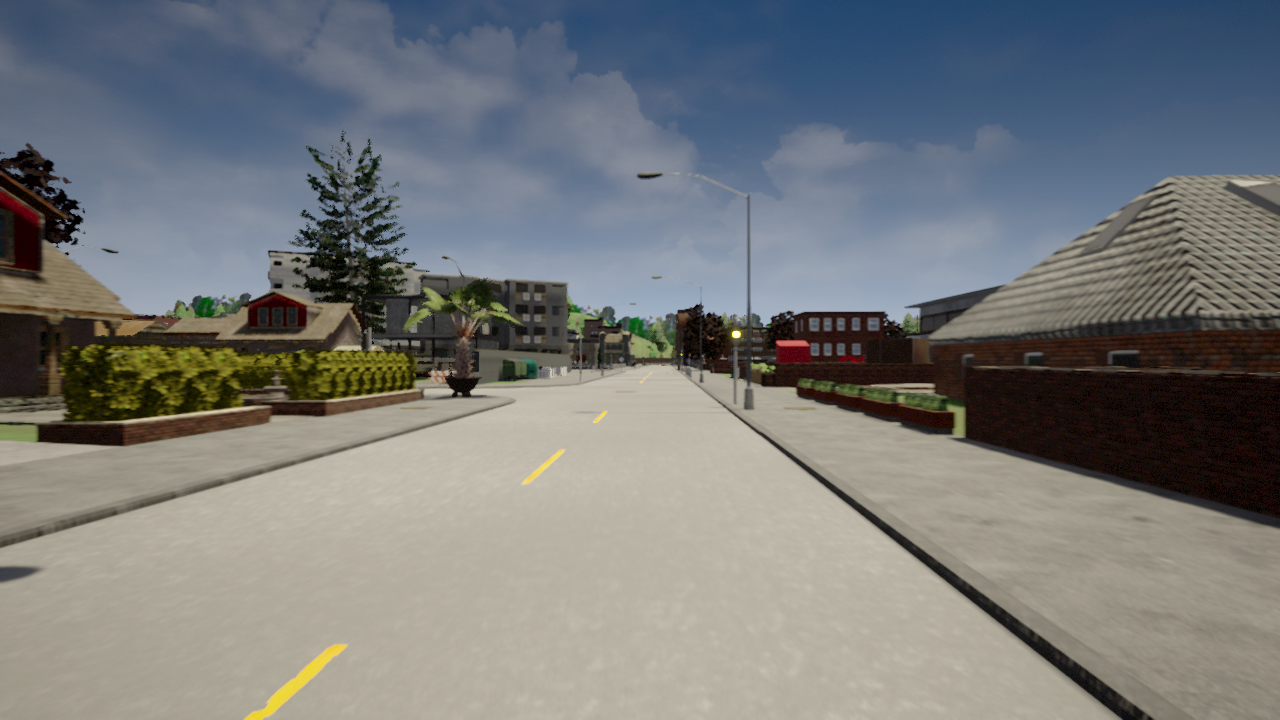yellow: (730, 322, 741, 350)
